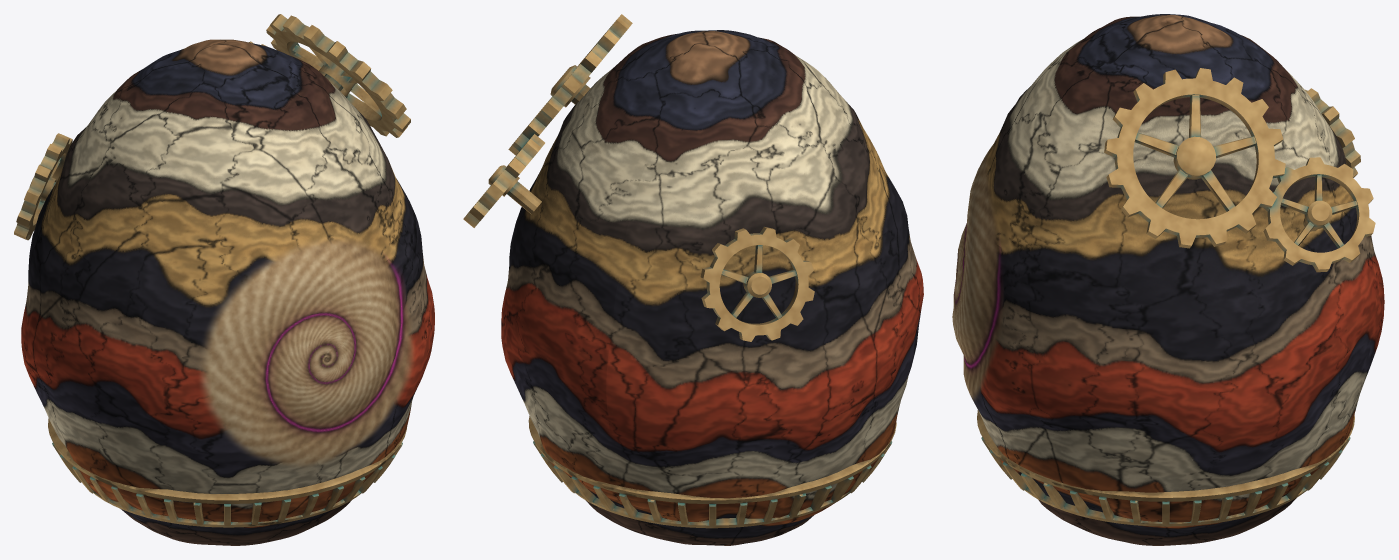
The model's file is PrimordialAbyssEgg.fbx.
3 renders of one model, left to right at view 1: azimuth 30°, elevation 25°; view 2: azimuth 150°, elevation 25°; view 3: azimuth 270°, elevation 25°, orthographic. The views are drawn at different scales.
Visible parts, largest first — view 1: PrimordialAbyssEgg_Body; view 2: PrimordialAbyssEgg_Body; view 3: PrimordialAbyssEgg_Body.
Part boxes in pixels (x1=…): PrimordialAbyssEgg_Body: x1=14, y1=14, x2=434, y2=545; PrimordialAbyssEgg_Body: x1=463, y1=14, x2=923, y2=545; PrimordialAbyssEgg_Body: x1=952, y1=14, x2=1384, y2=545.
Bounding box in the file's own units: 2.21 × 2.81 × 2.19.
2 materials, 1 textured.
